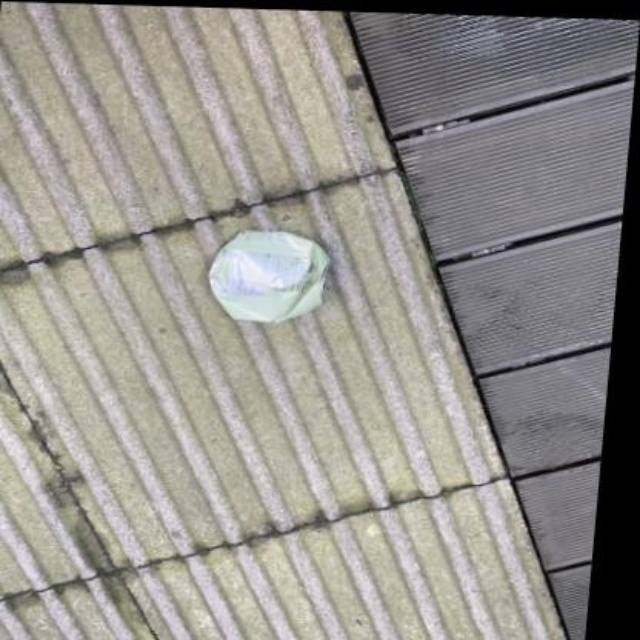trash: (209, 231, 328, 320)
